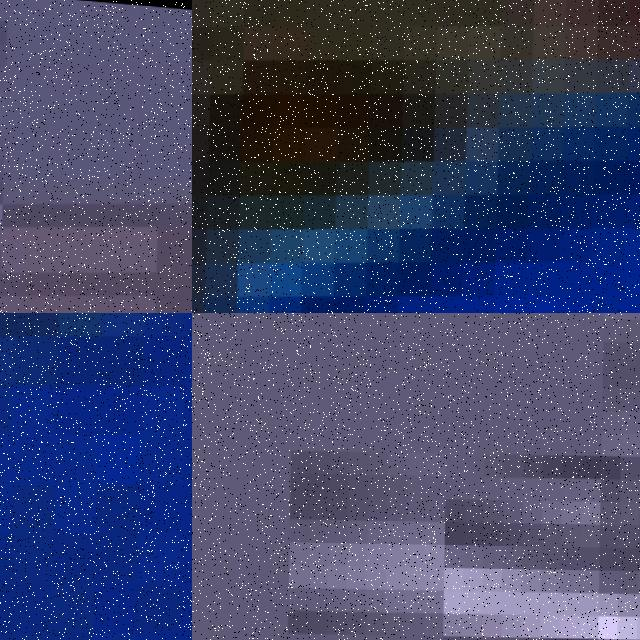0: (0, 0, 192, 313)
drone: (192, 0, 640, 313), (0, 313, 192, 640)
